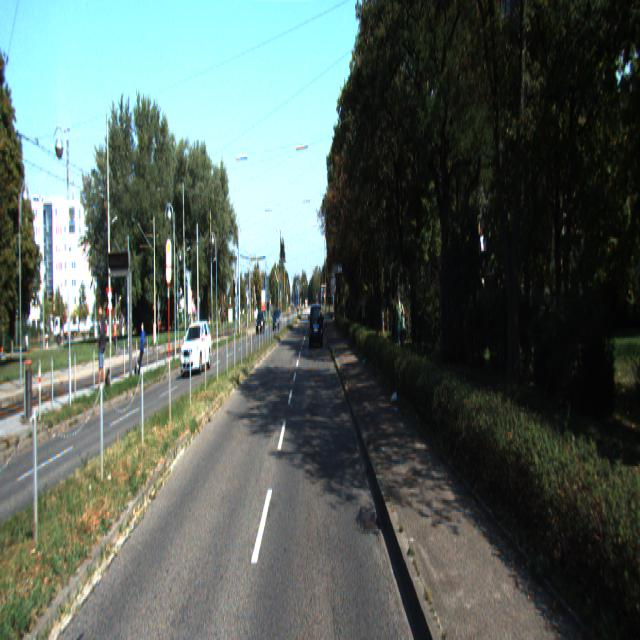Car: (180, 318, 213, 375), (310, 302, 324, 348)
